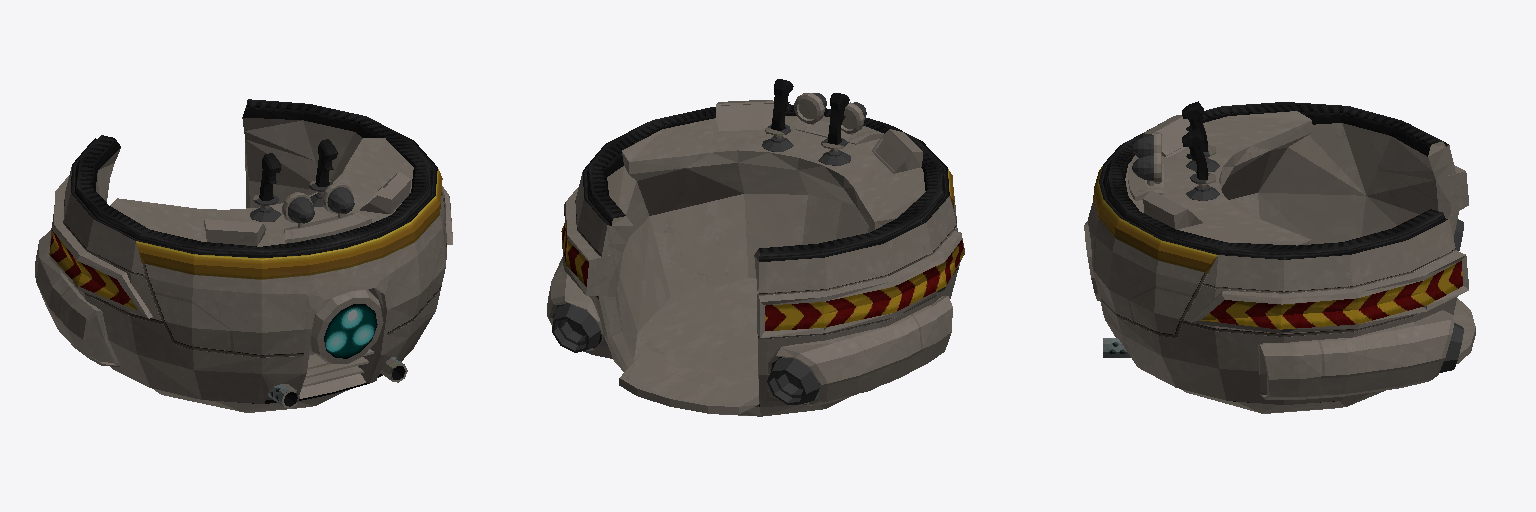
3 views of the same model, side by side, from view 1: azimuth 30°, elevation 25°; view 2: azimuth 150°, elevation 25°; view 3: azimuth 270°, elevation 25° (orthographic).
Visible parts, largest first — view 1: Pod; view 2: Pod; view 3: Pod.
Part boxes in pixels (x1,y1,x2,y2): Pod: (35,99,452,412); Pod: (547,79,964,416); Pod: (1084,101,1475,413).
Size of the model in its own units: 98.06 by 73.07 by 93.16.
Materials: 1 (1 with a texture image).